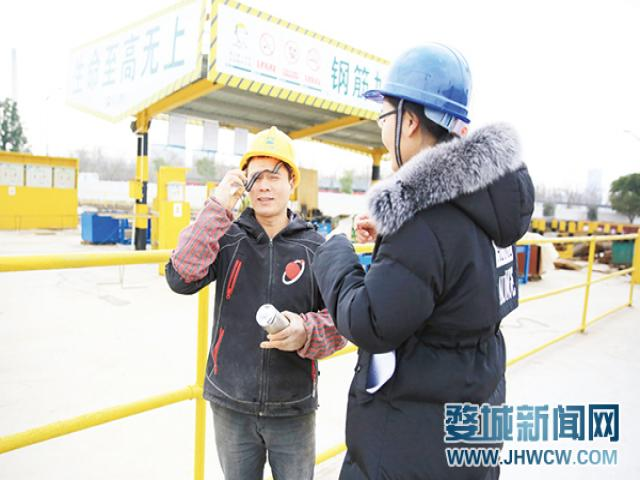Helmet: (359, 35, 473, 128), (236, 121, 303, 189)
